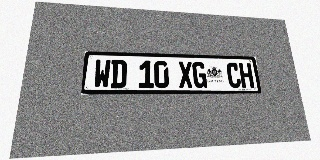0: (154, 61, 169, 88)
1: (139, 60, 154, 88)
C: (226, 63, 242, 88)
D: (110, 60, 127, 88)
G: (192, 62, 207, 88)
H: (239, 63, 254, 88)
W: (93, 59, 111, 88)
X: (178, 61, 193, 88)
